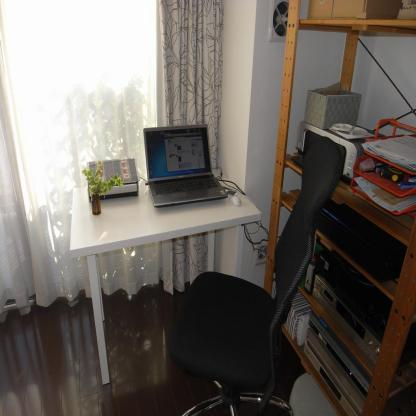board: (144, 124, 228, 210)
